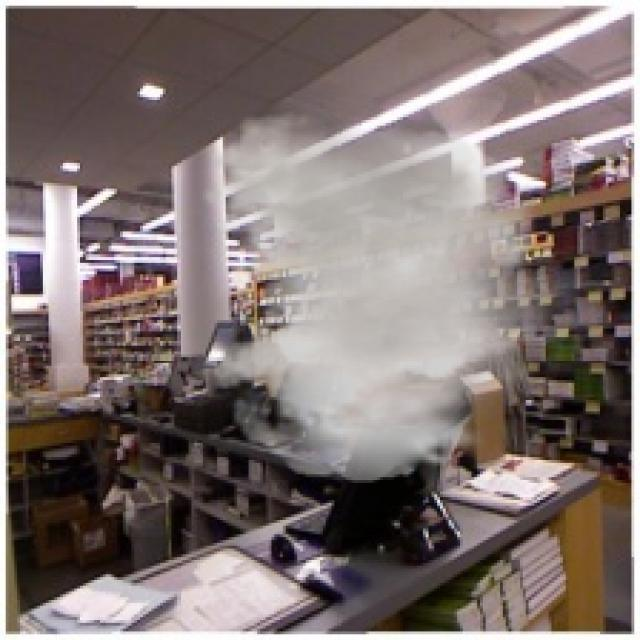Smoke: (197, 111, 586, 483)
